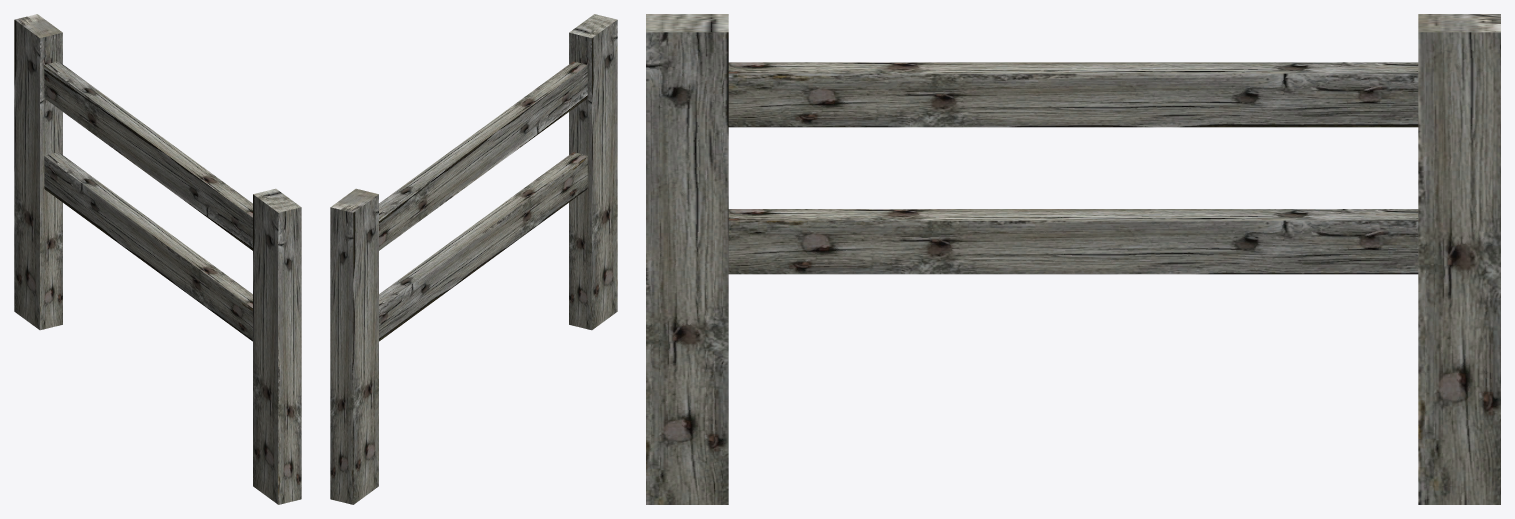
Rendered from amazingfence.glb.
The picture shows the model from 3 angles, left to right: view 1: azimuth 30°, elevation 25°; view 2: azimuth 150°, elevation 25°; view 3: azimuth 270°, elevation 25°; orthographic projection. The views are drawn at different scales.
Visible parts, largest first — view 1: Cube; view 2: Cube; view 3: Cube.
Part boxes in pixels (x1,y1,x2,y2): Cube: (14, 14, 301, 504); Cube: (330, 14, 617, 504); Cube: (646, 14, 1500, 504).
Bounding box in the file's own units: 0.1753 × 2.12 × 3.48.
1 material, 1 textured.
